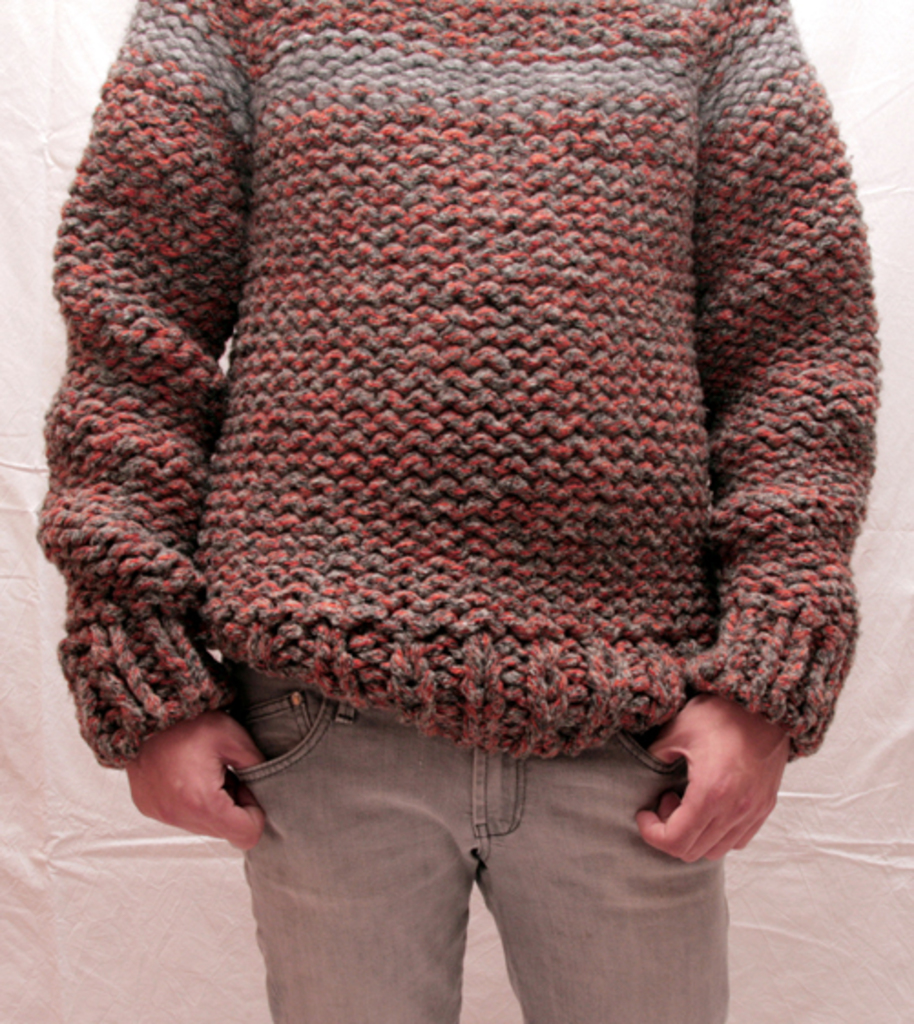Person: (34, 0, 883, 1023)
